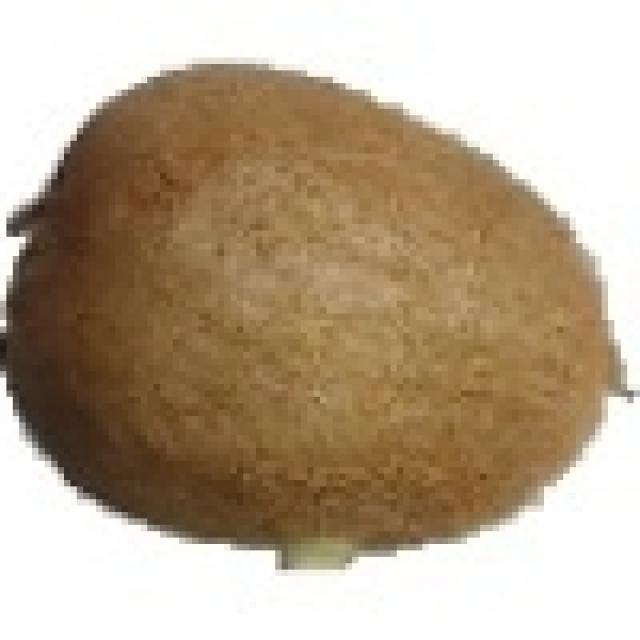kiwi: (19, 58, 627, 550)
